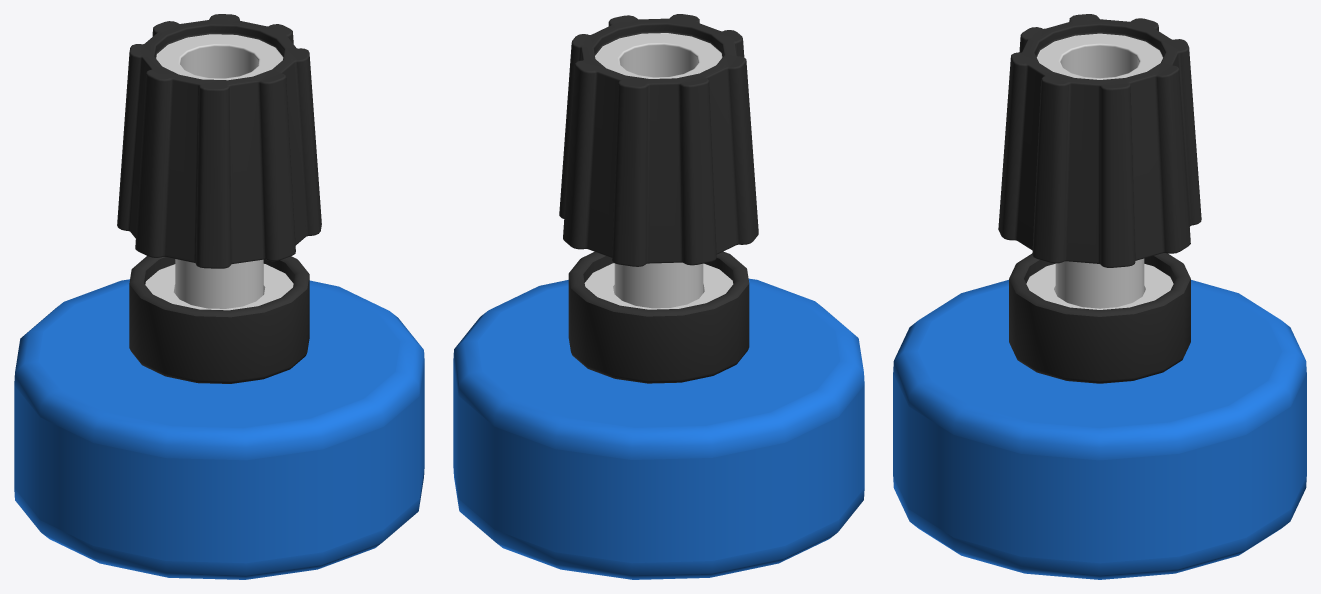
File: Junction.fbx
The picture shows the model from 3 angles, left to right: view 1: azimuth 30°, elevation 25°; view 2: azimuth 150°, elevation 25°; view 3: azimuth 270°, elevation 25°; orthographic projection.
Visible parts, largest first — view 1: Junction.001, Cylinder.009, Cylinder.008; view 2: Junction.001, Cylinder.009, Cylinder.008; view 3: Junction.001, Cylinder.009, Cylinder.008.
Boxes of the visible parts, bbox=[...] form: Junction.001: bbox=[14, 279, 424, 579]; Cylinder.009: bbox=[117, 14, 321, 308]; Cylinder.008: bbox=[129, 256, 309, 383]; Junction.001: bbox=[453, 278, 864, 579]; Cylinder.009: bbox=[559, 14, 758, 308]; Cylinder.008: bbox=[568, 251, 749, 383]; Junction.001: bbox=[893, 280, 1306, 579]; Cylinder.009: bbox=[998, 14, 1201, 308]; Cylinder.008: bbox=[1009, 253, 1190, 383].
Bounding box in the file's own units: 60.02 × 71.45 × 60.02.
